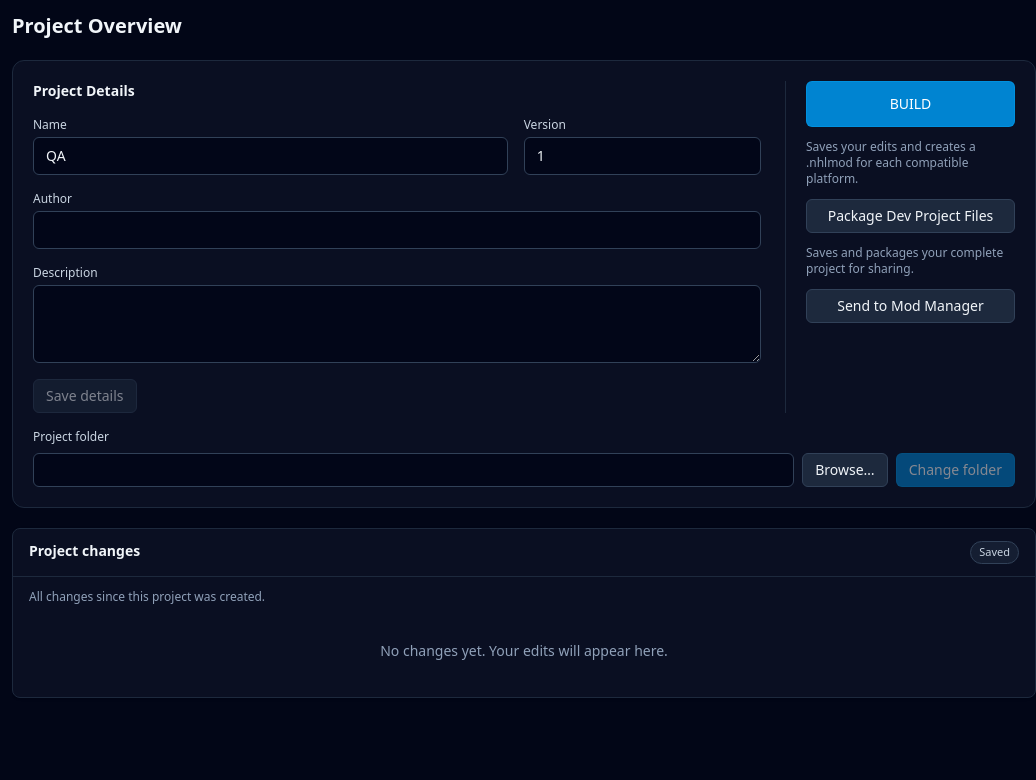
Scenario: does not build when saving fails
Expected: the heading "Project Details" is shown, [33,81,135,100]
Click the button "BUILD".
click(910, 104)  # box [806,81,1015,127]
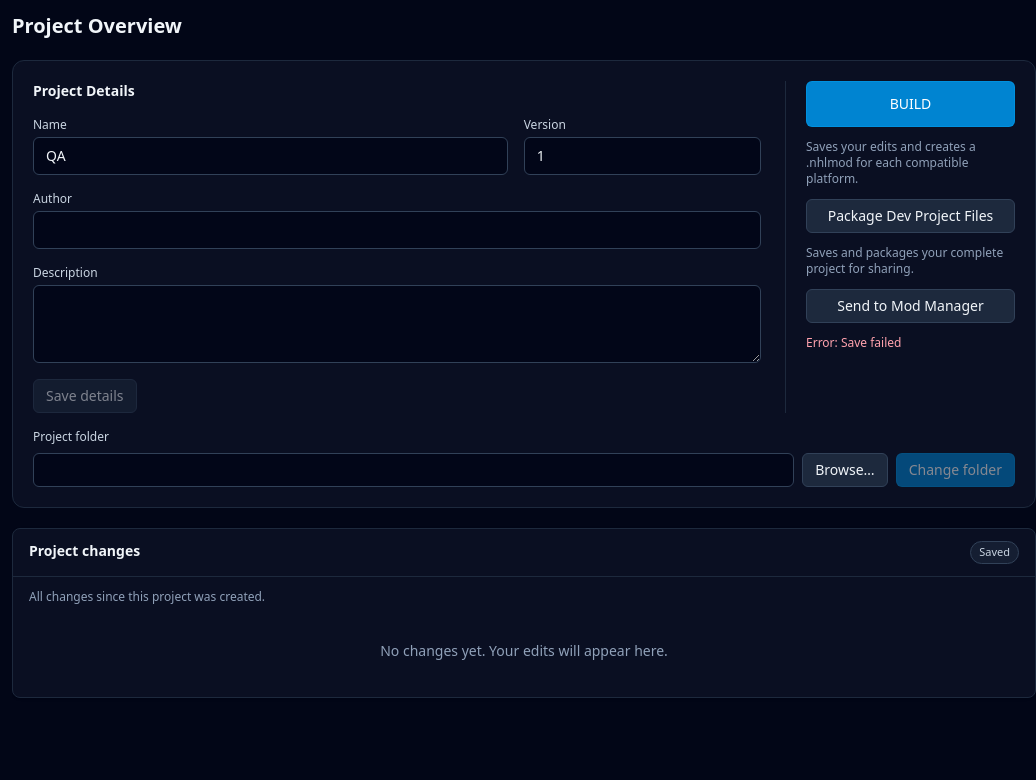
Now the message "Error: Save failed" is shown, box [806,334,901,351]
